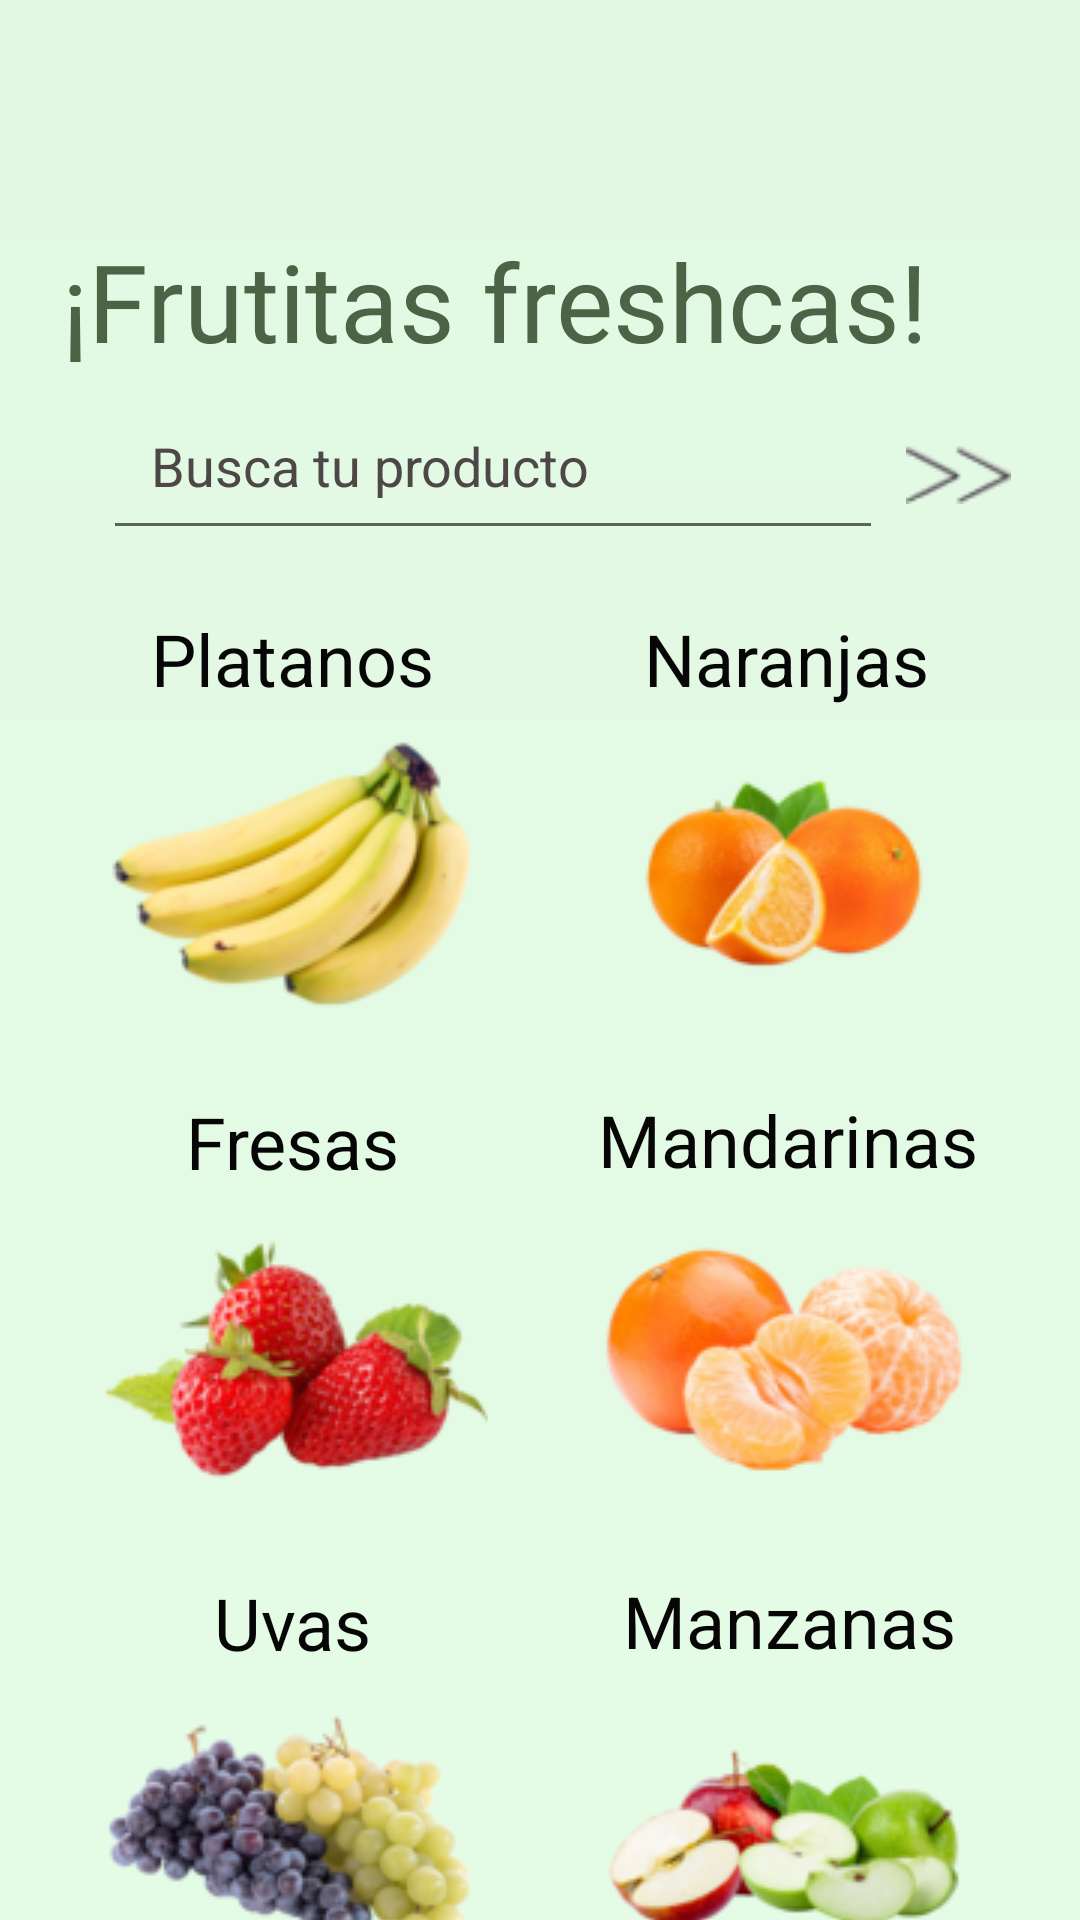

Point at icon controls on the screen. Image size 1080 x 1920, points as point (x, y).
Boton de flecha: point (958, 475)
